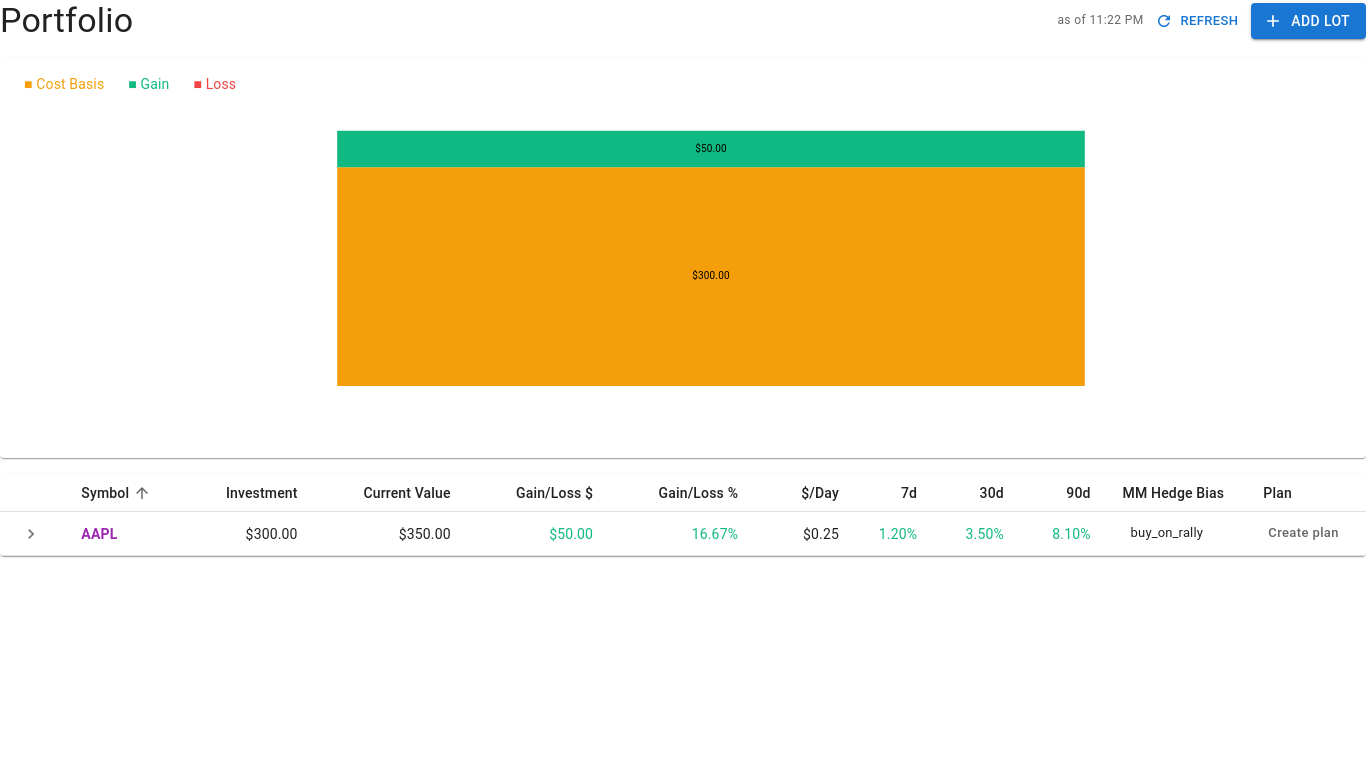
Test: PortfolioPage › opens the create dialog pre-seeded with the row that was clicked
Expected: the text "AAPL" is shown, [81,526,118,542]
What coordinates should you click on to do the following:
click the button "Create plan"
I would click on:
 (1304, 534)
Its box is [1263,518,1344,549].
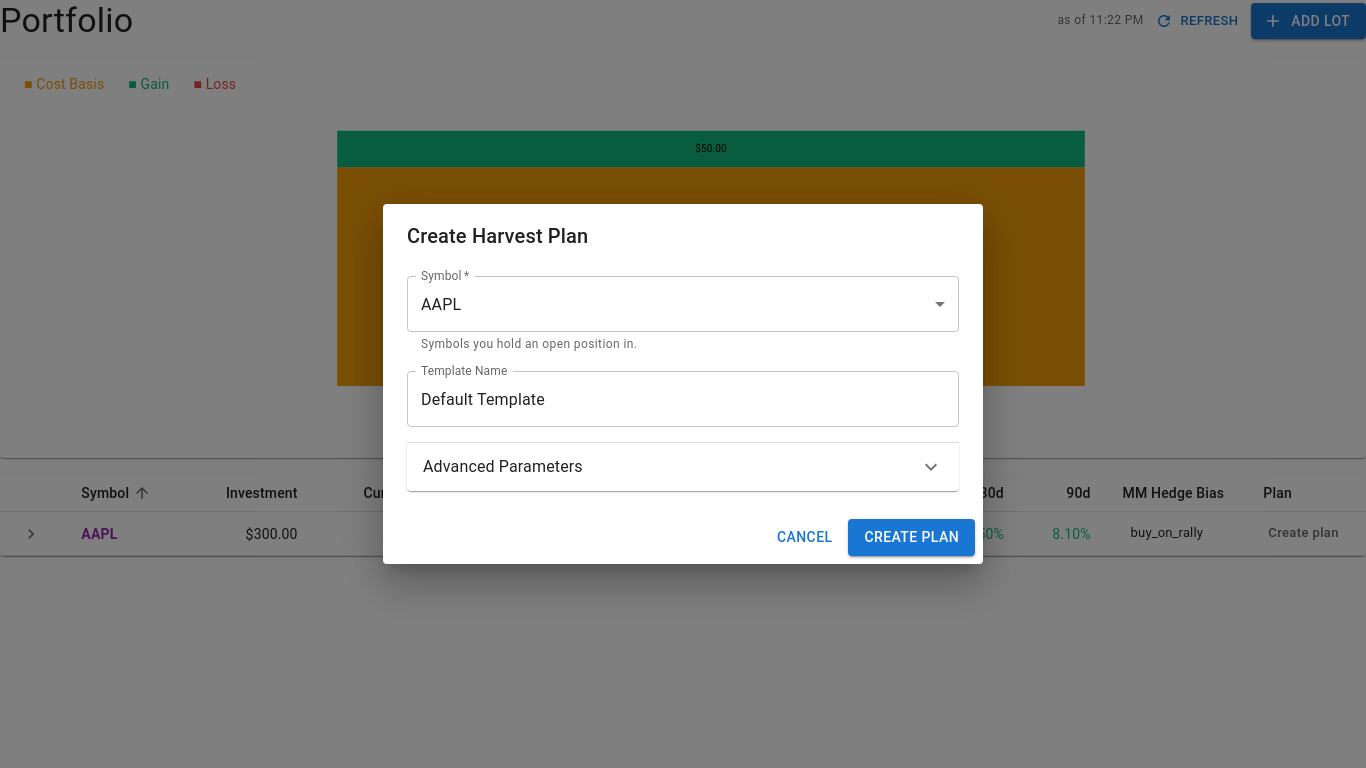
Expected: the heading "Create Harvest Plan" is shown, [407,224,588,248]
Expected: the dropdown reads "AAPL", [421,295,461,314]
